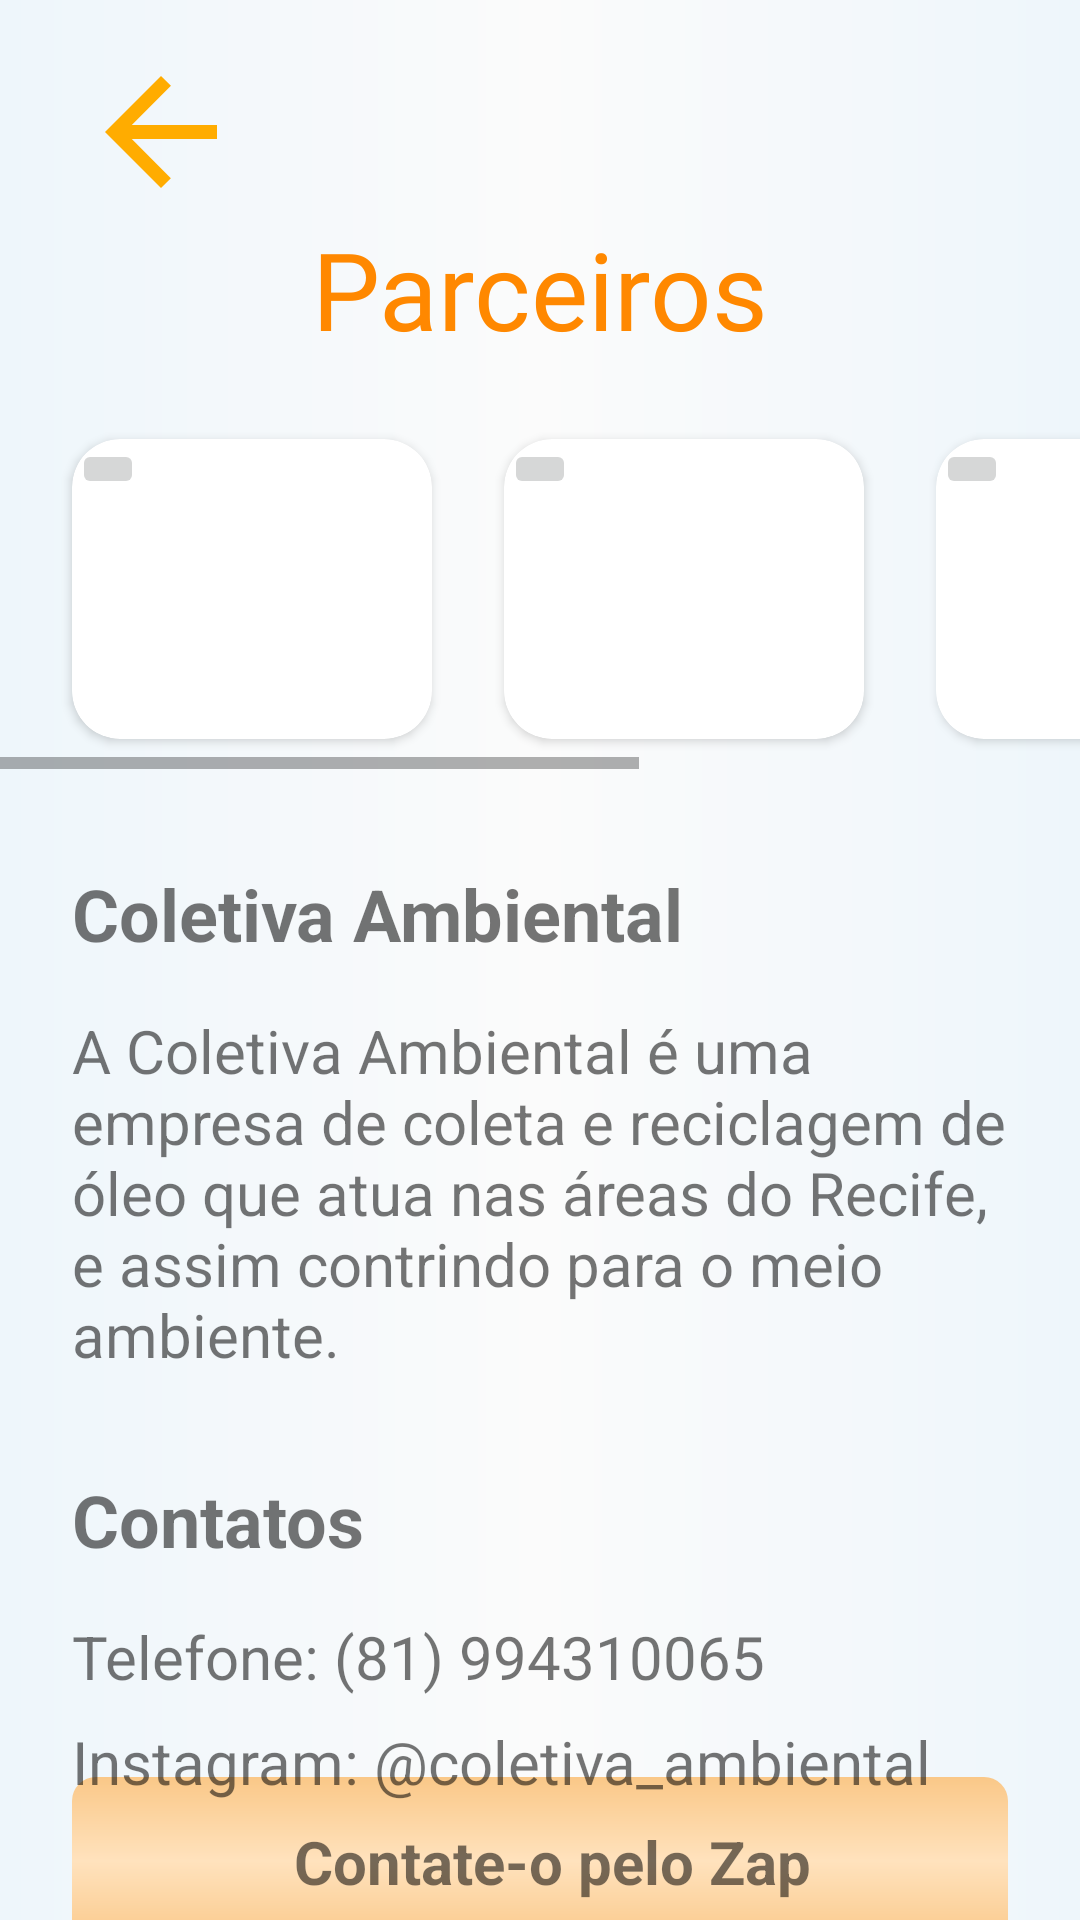

Icon bounding boxes for this 1080px×1920px phone screenshot, format (x1, y1, x2, y2):
botaovoltar: (105, 76, 217, 188)
